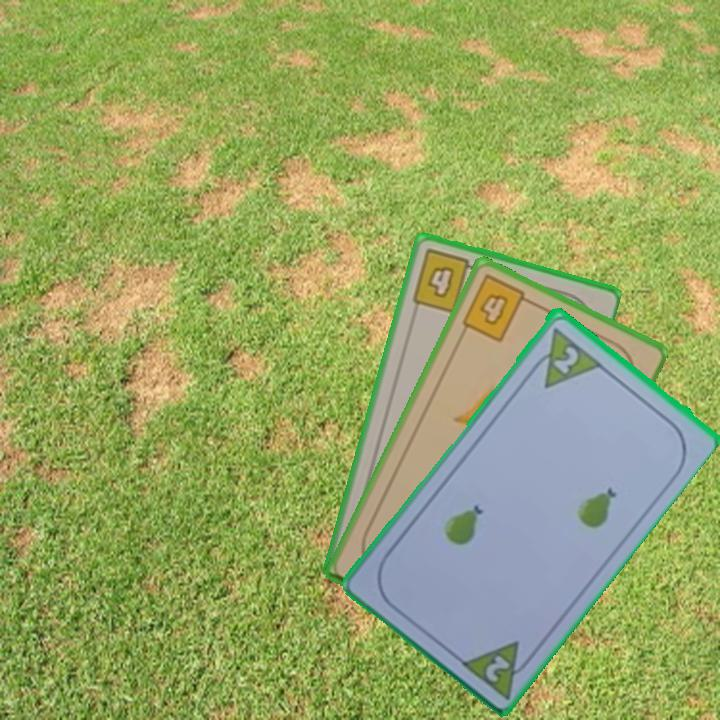2p: (455, 635, 539, 701), (524, 322, 603, 391)
4b: (458, 270, 536, 345), (408, 245, 483, 316)
